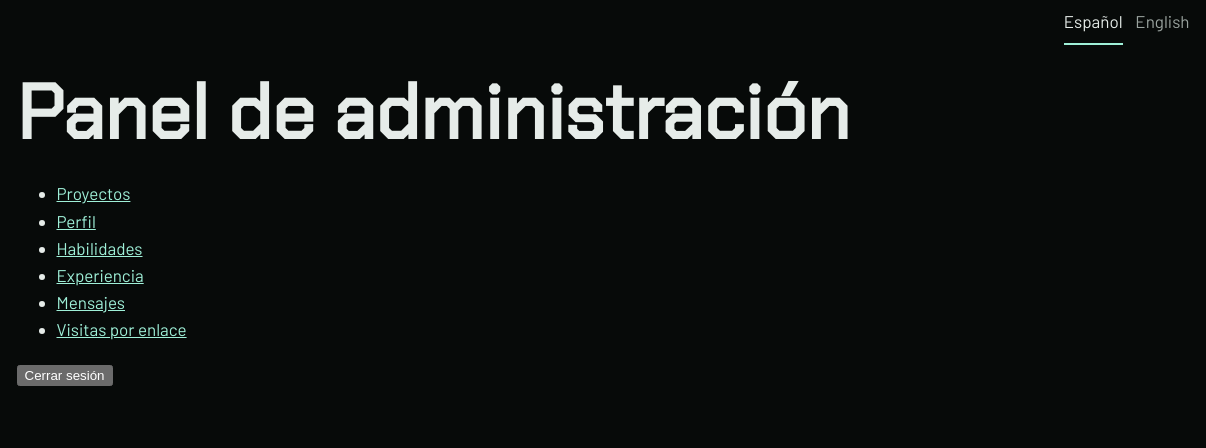
Test: admin panel /admin › if logout fails, shows a notice and stays in the admin panel
Click the button "Cerrar sesión": coordinates (64, 376) [16,366,112,386]
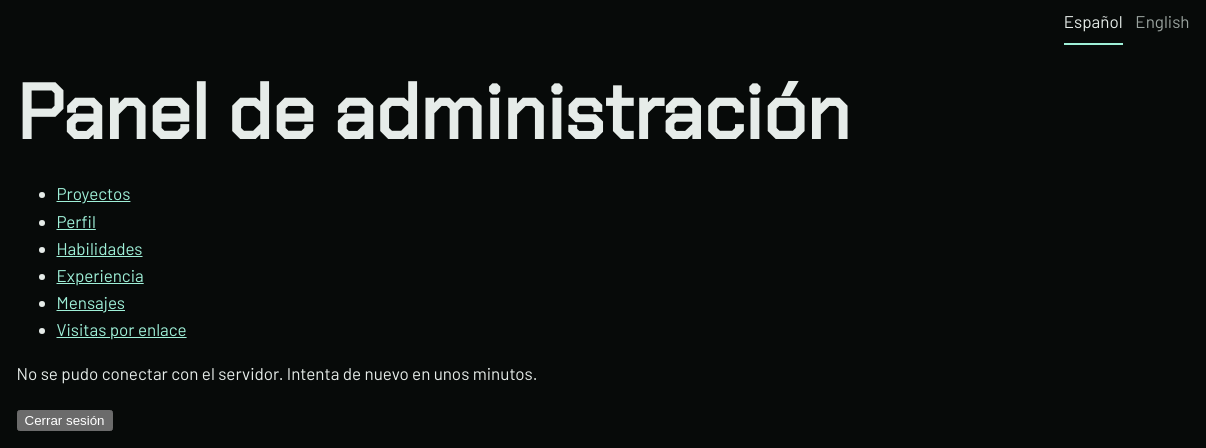
Expected: the heading "Panel de administración" is shown, [16,63,850,163]
Expected: the message shows "No se pudo conectar", [16,364,538,384]
